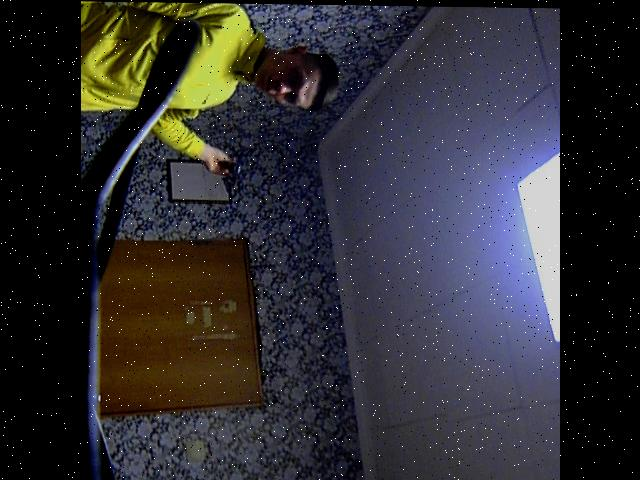drone: (219, 144, 253, 199)
